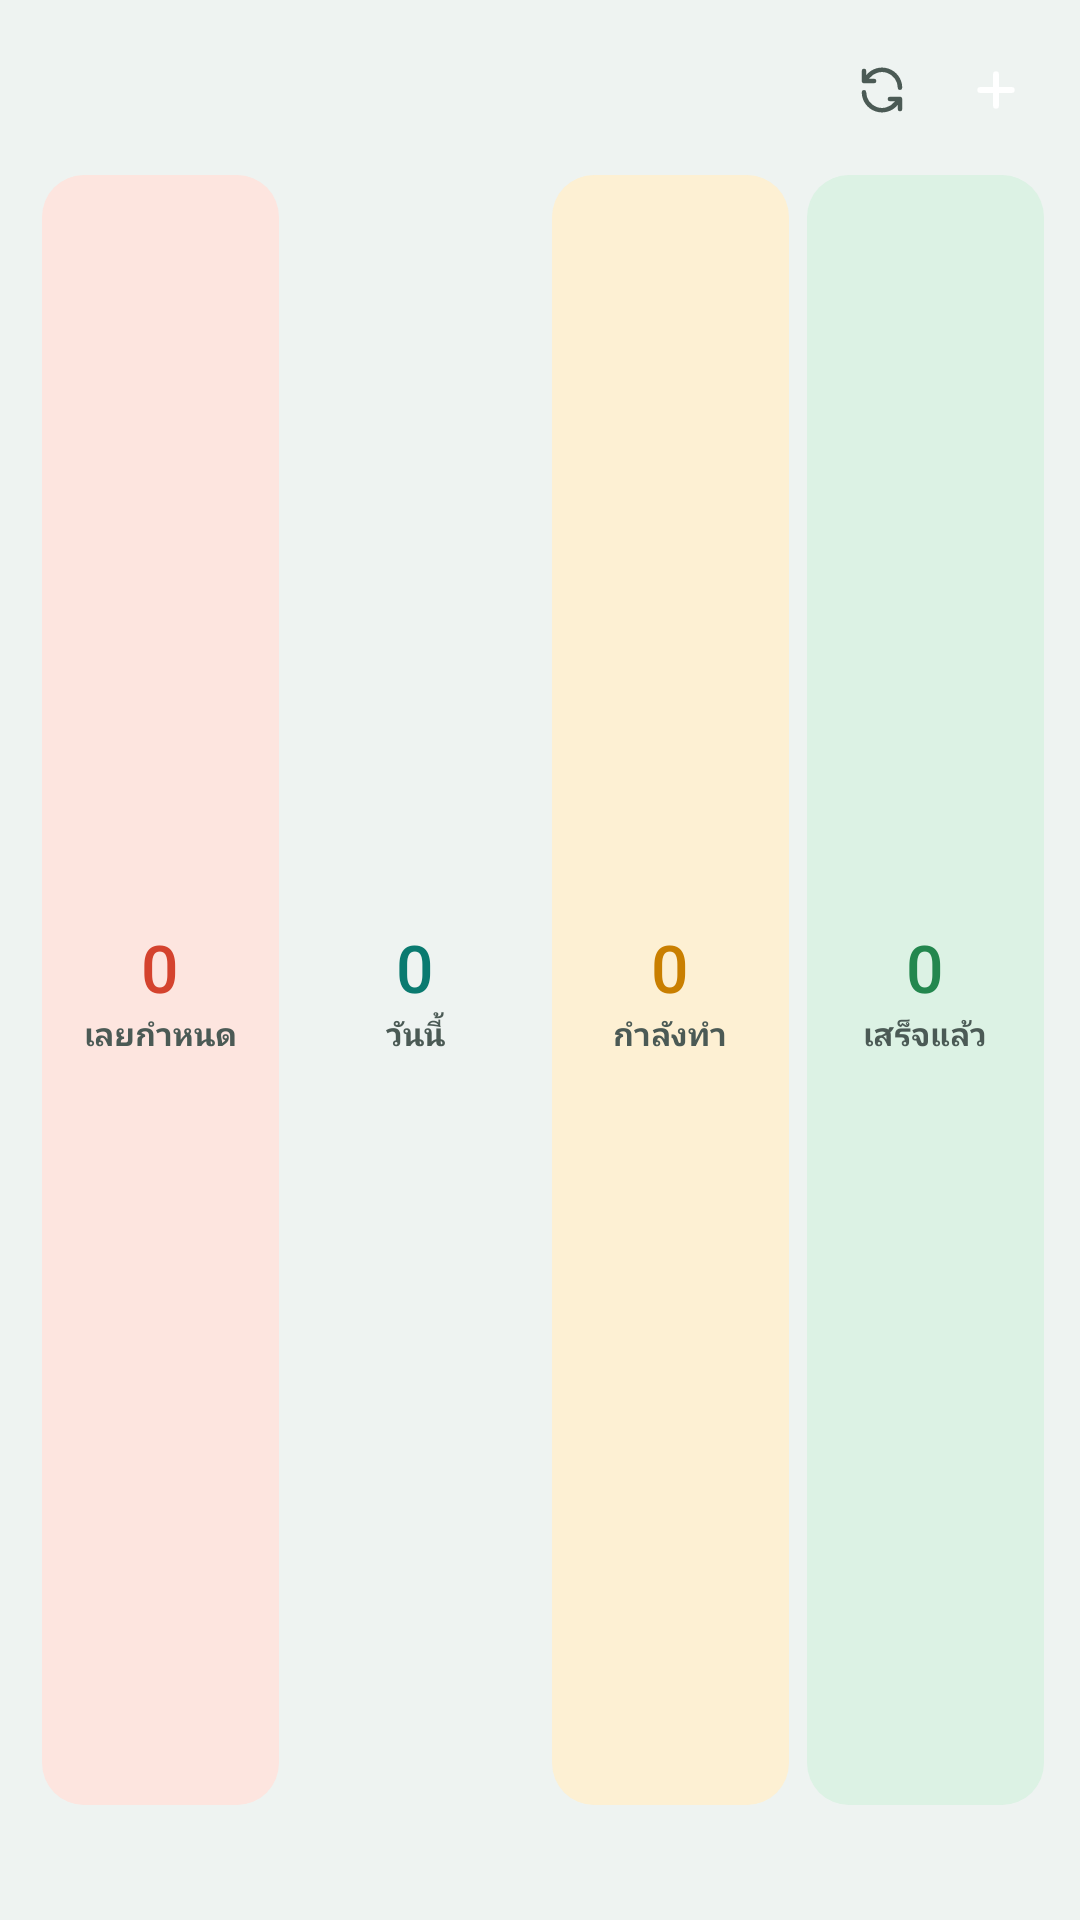

Icon bounding boxes for this 1080w x 1920h phone screenshot, format (x1, y1, x2, y2):
รีเฟรช: (861, 67, 903, 113)
